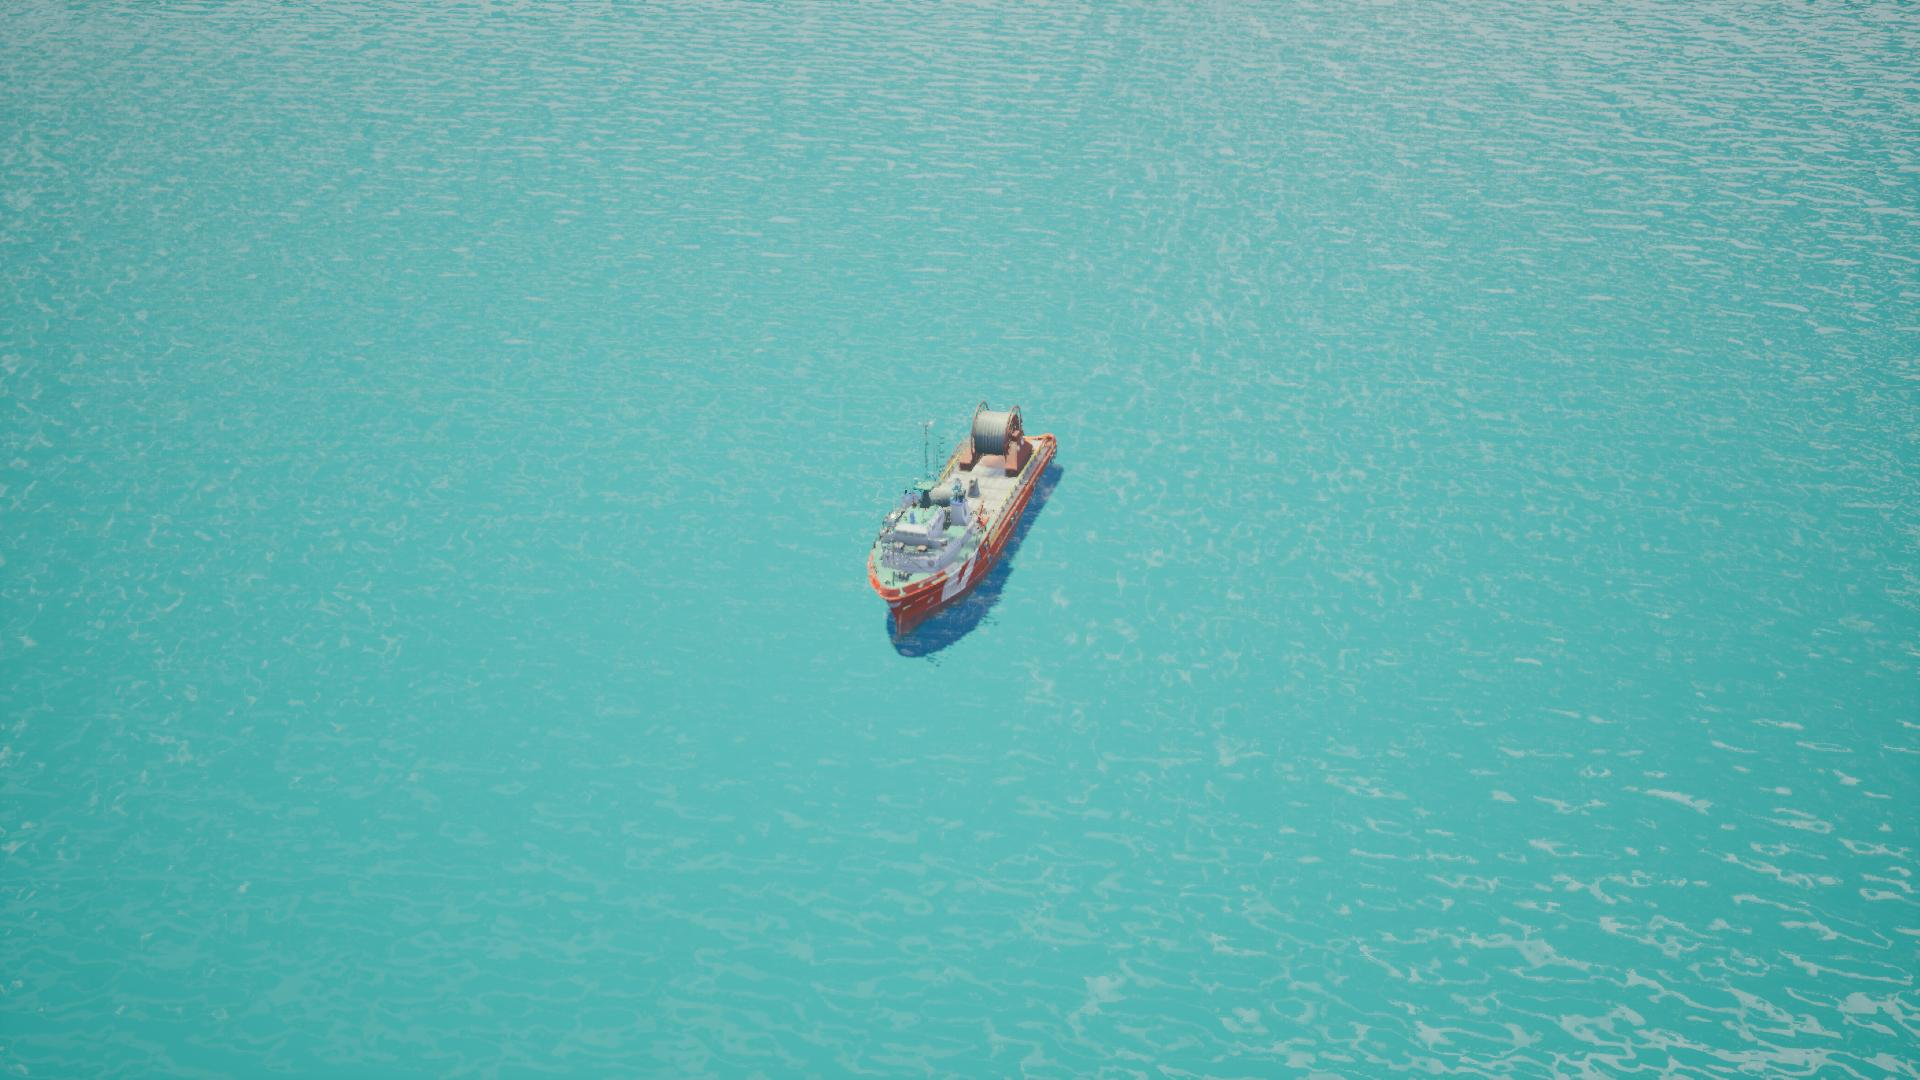Tug Boat: (865, 405, 1062, 661)
